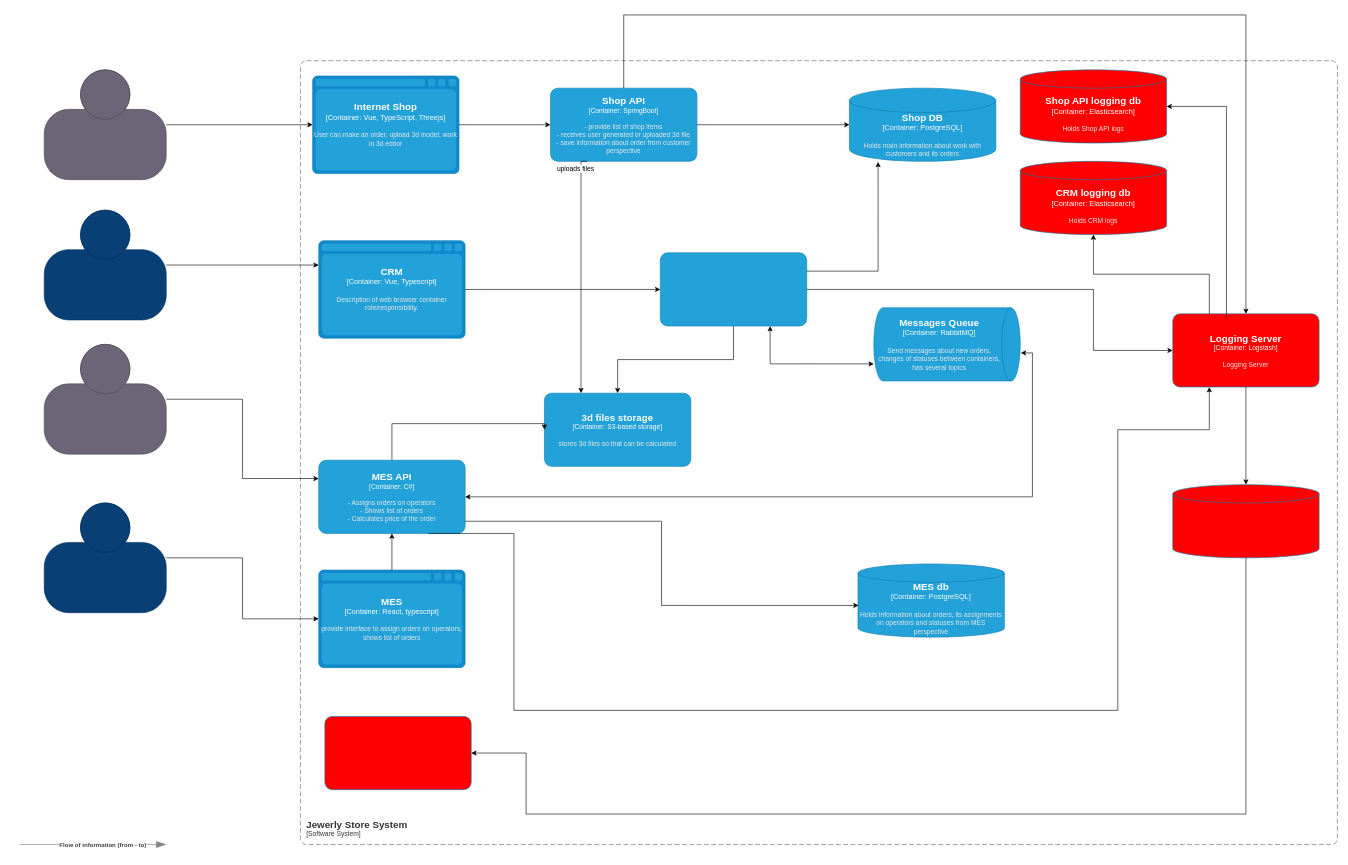
Some shapes in this 1348 by 865 pixel diagram are drawn without their labels. The centre of each missing label's shape, as x and y in pixels:
"API user [Person] Description of external person." belongs at [105,399].
"CRM API [Container: SpringBoot] Description of container role/responsibility." belongs at [733,289].
"Customer [Person] Description of external person." belongs at [105,124].
"Logging UI [Container: Kibana] Logging System UI" belongs at [397,753].
"MES logging db [Container: Elasticsearch] Holds MES logs" belongs at [1245,521].
"Operator [Person] Takes order in work, manufactures jewerly" belongs at [105,557].
"Seller [Person] Operates with order, confirms manufacturing for the user" belongs at [105,265].
